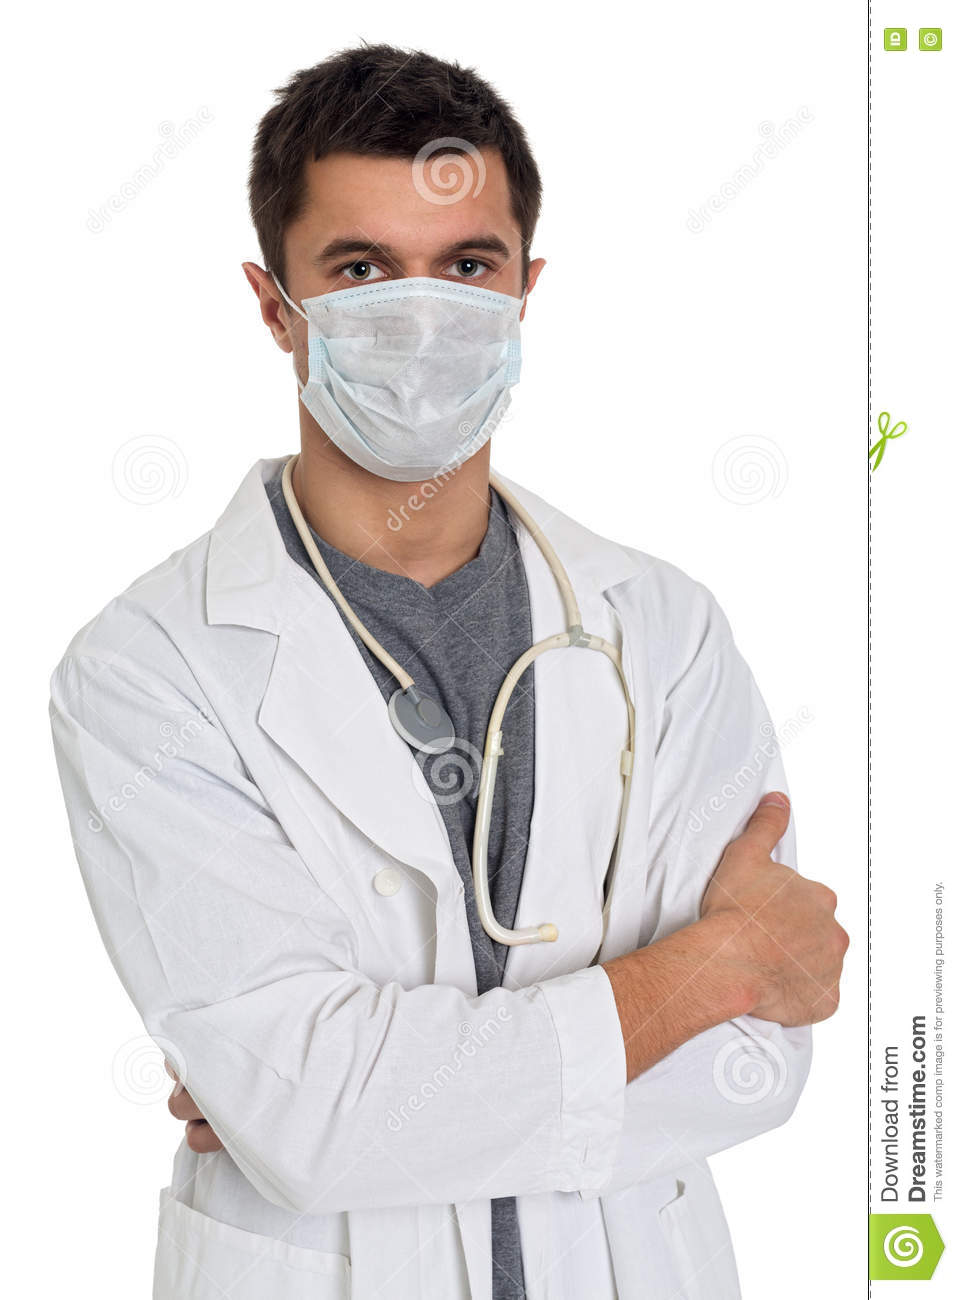mask: (298, 288, 524, 483)
